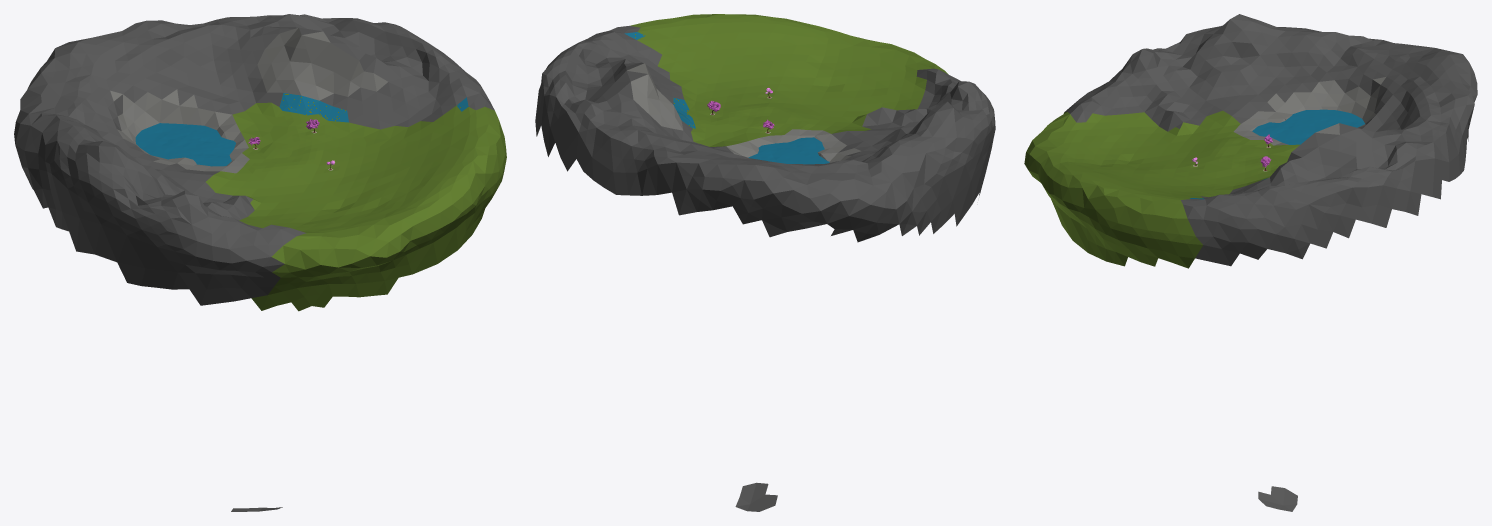
File: environmentV2.obj
The picture shows the model from 3 angles, left to right: view 1: azimuth 30°, elevation 25°; view 2: azimuth 150°, elevation 25°; view 3: azimuth 270°, elevation 25°; orthographic projection. The views are drawn at different scales.
Visible parts, largest first — view 1: Base_Icosphere.003, Sea_Icosphere.004; view 2: Base_Icosphere.003, Sea_Icosphere.004; view 3: Base_Icosphere.003, Sea_Icosphere.004.
Part boxes in pixels (<box>): Base_Icosphere.003: <box>14,14,506,511</box>; Sea_Icosphere.004: <box>135,123,235,166</box>; Base_Icosphere.003: <box>535,14,995,511</box>; Sea_Icosphere.004: <box>748,137,829,164</box>; Base_Icosphere.003: <box>1024,14,1477,511</box>; Sea_Icosphere.004: <box>1252,109,1364,144</box>.
Bounding box in the file's own units: 859 × 886 × 870.
8 materials, 8 textured.
